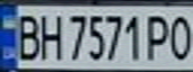1: (121, 11, 145, 61)
5: (84, 11, 106, 61)
7: (63, 10, 87, 61), (103, 11, 127, 61)
B: (9, 10, 42, 61)
H: (33, 10, 66, 61)
O: (166, 11, 193, 62)
P: (142, 10, 172, 62)
